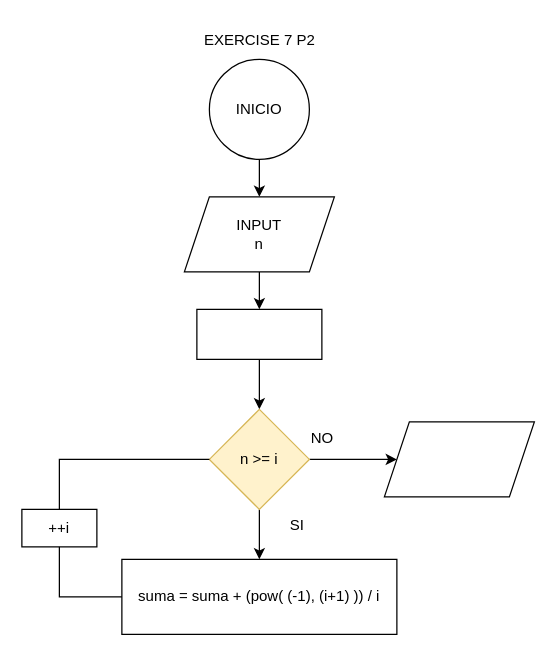
The diagram is 556 pixels wide and 656 high, and some of its shapes have lost their labels. The shapes that lost their labels are listed below. From the top down, each one's box as (x1, y1, x2, y2) in pixels, then its label:
(196, 308, 322, 359): suma = 0 i = 1
(383, 421, 534, 497): OUTPUT suma
